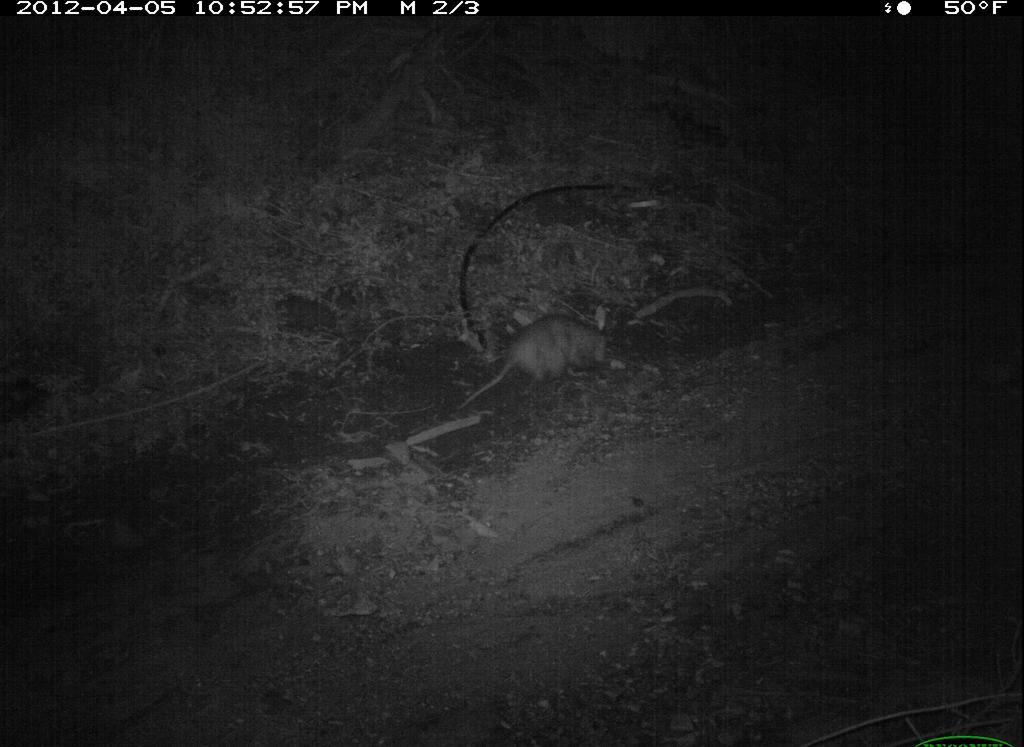opossum: (459, 306, 621, 425)
